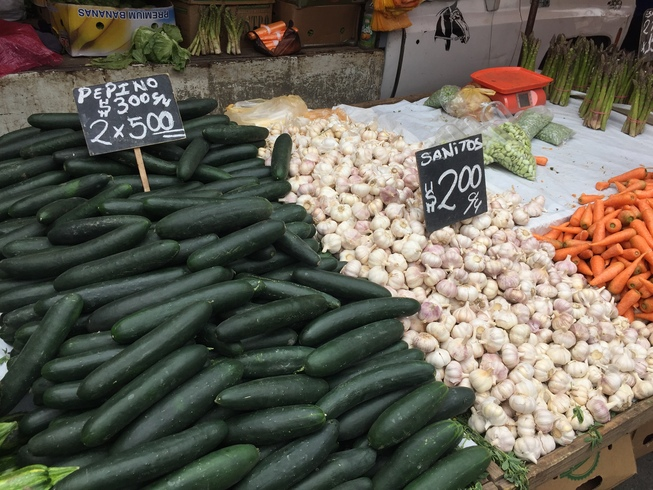precio: (65, 71, 202, 167), (410, 133, 492, 236)
